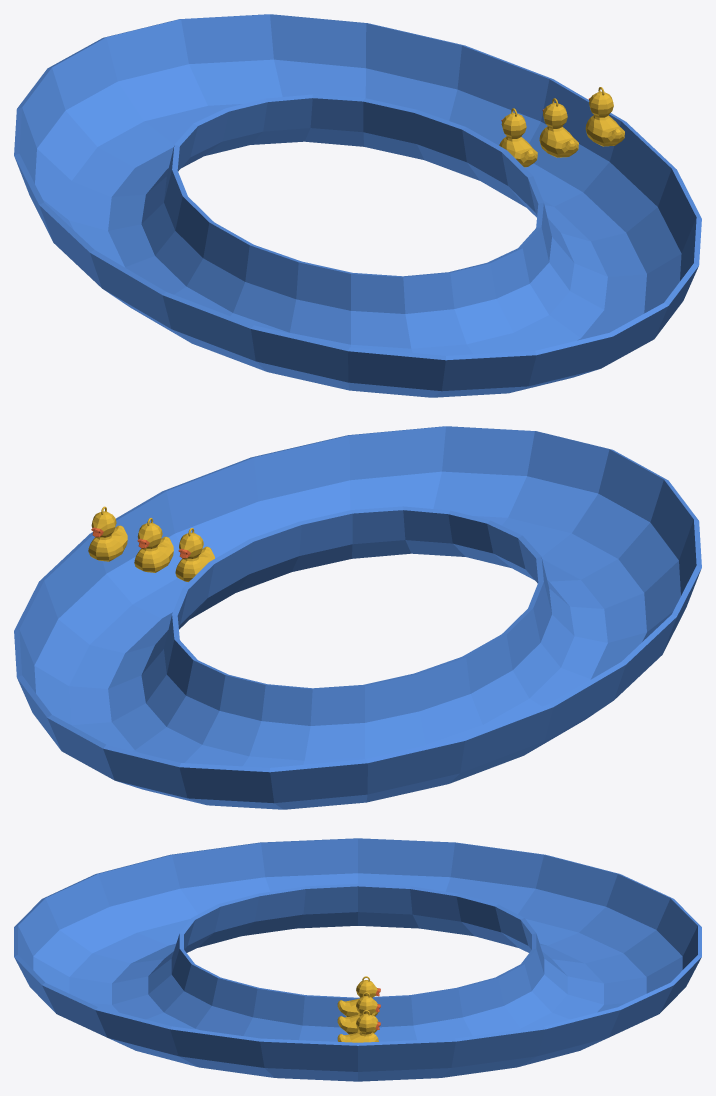
The model's file is BAQUET.fbx.
The picture shows the model from 3 angles, top to bottom: view 1: azimuth 30°, elevation 25°; view 2: azimuth 150°, elevation 25°; view 3: azimuth 270°, elevation 25°; orthographic projection. The views are drawn at different scales.
Parts seen in each view (by area): view 1: BAQUET, Rubber_Duck.001, Rubber_Duck.002, Rubber_Duck; view 2: BAQUET, Rubber_Duck.001, Rubber_Duck.002, Rubber_Duck; view 3: BAQUET, Rubber_Duck.002, Rubber_Duck.001, Rubber_Duck.
Boxes of the visible parts, box(x1,y1,x2,y2) form: BAQUET: box(14, 14, 701, 397); Rubber_Duck.001: box(539, 98, 578, 157); Rubber_Duck.002: box(585, 87, 624, 146); Rubber_Duck: box(499, 108, 537, 167); BAQUET: box(14, 426, 701, 809); Rubber_Duck.001: box(134, 518, 173, 572); Rubber_Duck.002: box(88, 506, 127, 561); Rubber_Duck: box(175, 528, 214, 581); BAQUET: box(14, 838, 701, 1081); Rubber_Duck.002: box(337, 1010, 380, 1042); Rubber_Duck.001: box(337, 992, 380, 1034); Rubber_Duck: box(337, 976, 380, 1016).
Size of the model in its own units: 215 by 41.3 by 301.
